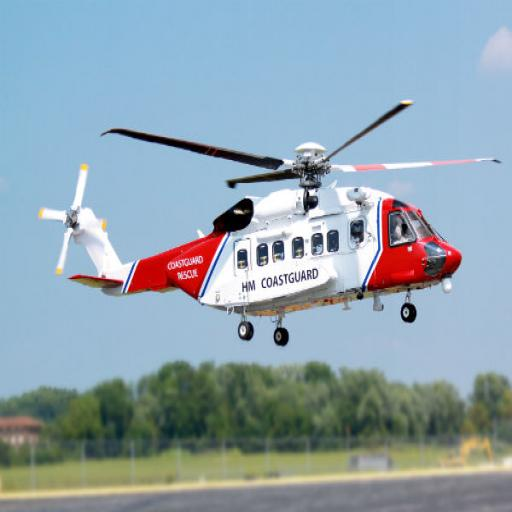helicopter: (36, 85, 490, 346)
